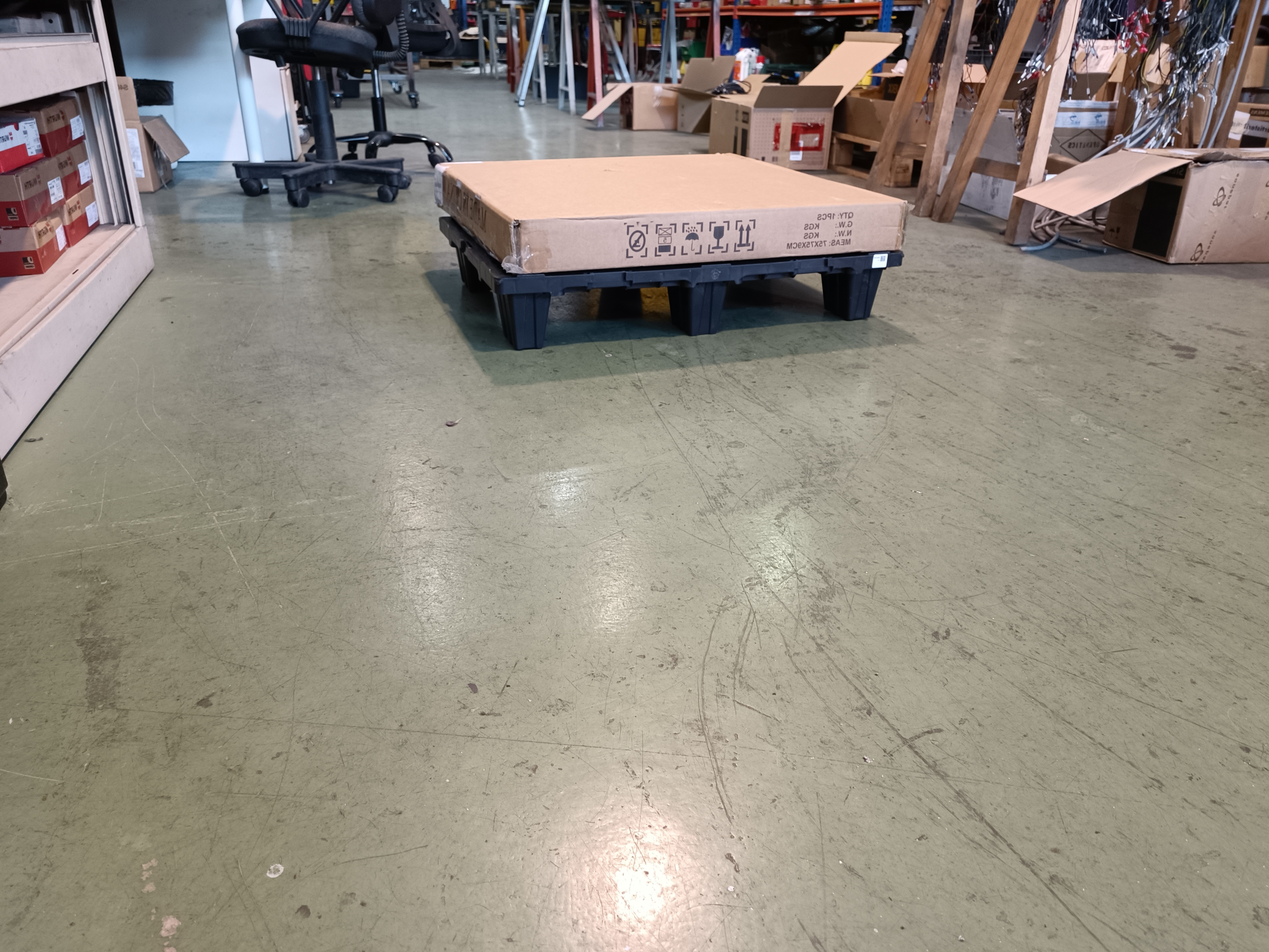block: (819, 268, 890, 323), (496, 290, 553, 350), (666, 282, 727, 336), (456, 242, 477, 296)
front: (504, 247, 907, 351)
hole pallet: (542, 293, 698, 353), (730, 273, 846, 334)
